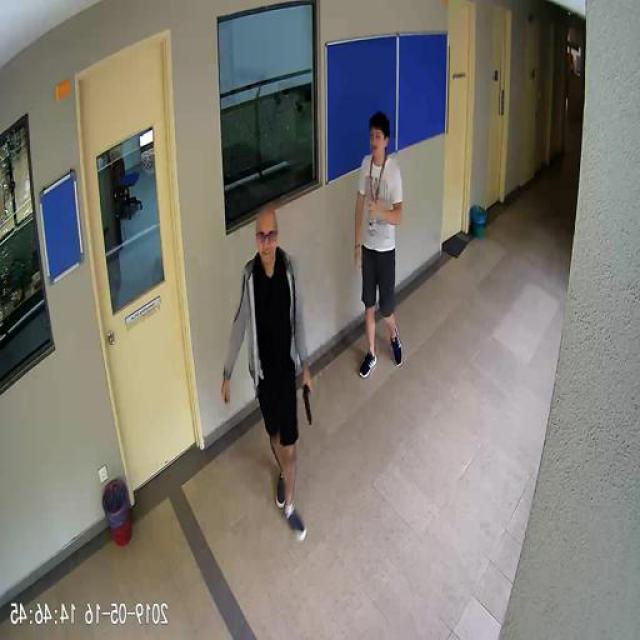Gun: (304, 375, 314, 423)
